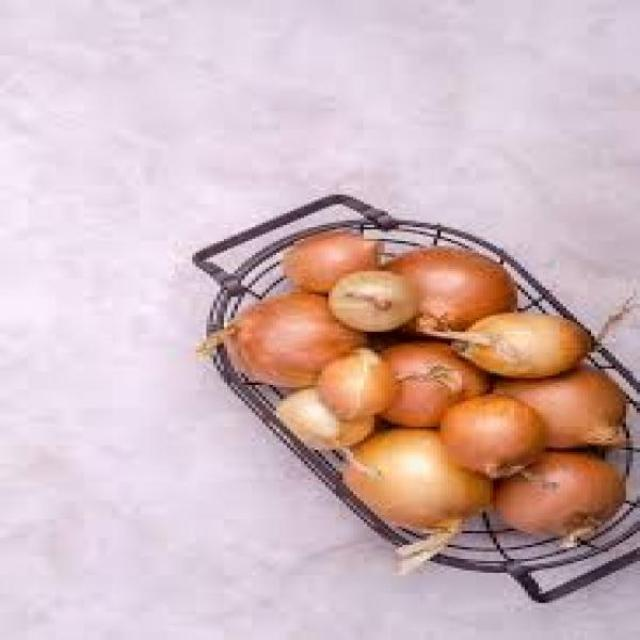Onion: (314, 429, 494, 574), (218, 288, 366, 395), (489, 448, 627, 542), (431, 311, 592, 382), (385, 247, 516, 334), (441, 393, 548, 481), (329, 271, 422, 336)
